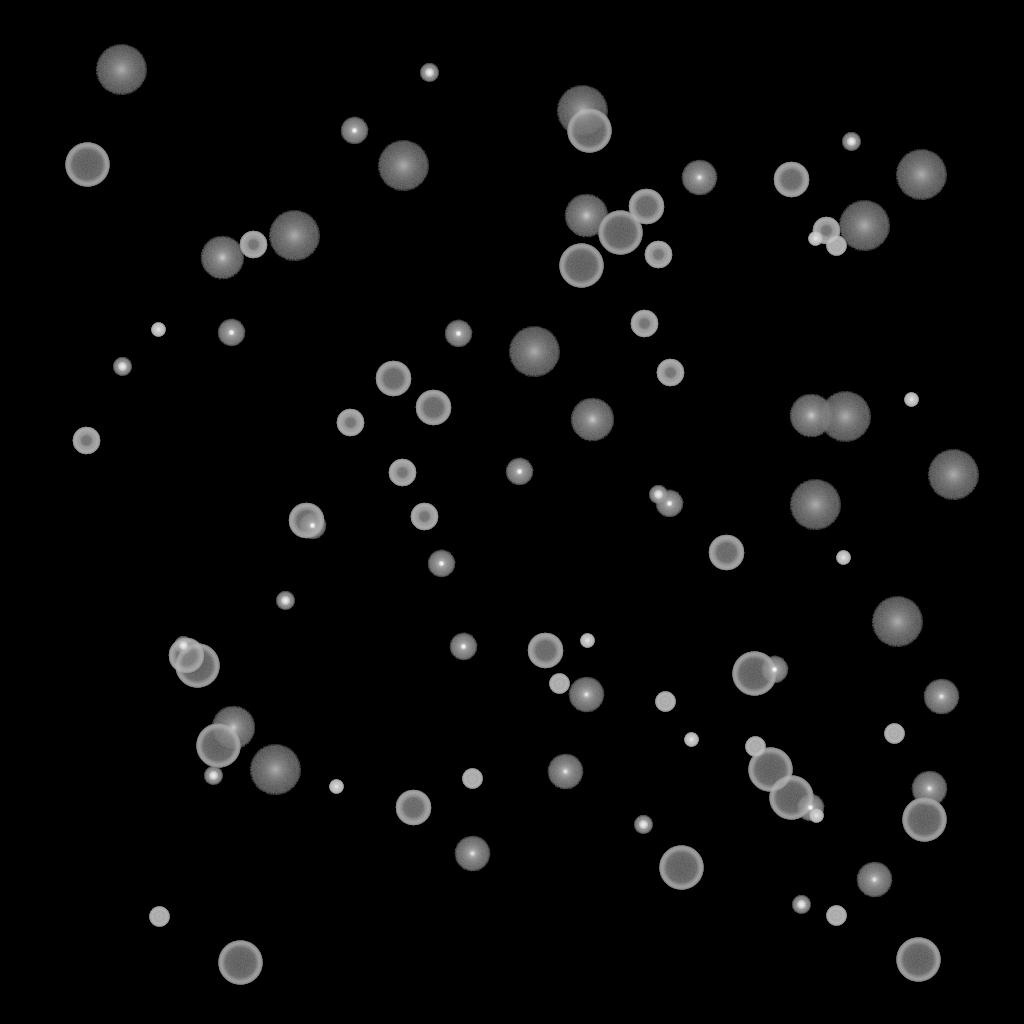depth:-10: (340, 117, 368, 145), (655, 490, 683, 518), (760, 656, 788, 684), (427, 550, 455, 578), (444, 320, 472, 348), (449, 633, 477, 661), (217, 319, 245, 347), (796, 794, 824, 822), (298, 512, 326, 540), (505, 458, 533, 486)
depth:-20: (634, 816, 652, 834), (174, 637, 192, 655), (204, 767, 222, 785), (420, 64, 438, 82), (842, 133, 860, 151), (649, 486, 667, 504), (113, 358, 131, 376), (792, 896, 810, 914), (276, 592, 294, 610)
depth:-30: (808, 232, 822, 246), (836, 551, 850, 565), (151, 323, 165, 337), (809, 809, 823, 823), (684, 733, 698, 747), (580, 634, 594, 648), (329, 780, 343, 794), (904, 393, 918, 407)
depth:-40: (745, 737, 765, 757), (826, 906, 846, 926), (462, 769, 482, 789), (149, 907, 169, 927), (655, 692, 675, 712), (826, 236, 846, 256), (549, 674, 569, 694), (884, 724, 904, 744)
depth:-50: (336, 409, 364, 437), (388, 459, 416, 487), (72, 427, 100, 455), (644, 241, 672, 269), (239, 231, 267, 259), (812, 217, 840, 245), (656, 359, 684, 387), (630, 310, 658, 338), (410, 503, 438, 531)
depth:-60: (708, 535, 744, 571), (628, 189, 664, 225), (773, 162, 809, 198), (527, 633, 563, 669), (415, 390, 451, 426), (288, 503, 324, 539), (395, 790, 431, 826), (375, 361, 411, 397), (168, 638, 204, 674)
depth:-70: (559, 244, 603, 288), (769, 776, 813, 820), (196, 724, 240, 768), (748, 748, 792, 792), (567, 109, 611, 153), (732, 652, 776, 696), (65, 143, 109, 187), (218, 941, 262, 985), (896, 938, 940, 982), (659, 846, 703, 890), (175, 644, 219, 688), (902, 798, 946, 842), (598, 211, 642, 255)
depth:0: (454, 836, 490, 872), (923, 679, 959, 715), (547, 754, 583, 790), (911, 771, 947, 807), (568, 677, 604, 713), (856, 862, 892, 898), (681, 160, 717, 196)
depth:10: (570, 398, 614, 442), (200, 236, 244, 280), (211, 706, 255, 750), (564, 194, 608, 238), (789, 394, 833, 438)
depth:20: (249, 745, 301, 795), (895, 150, 947, 200), (556, 86, 608, 136), (789, 480, 841, 530), (927, 450, 979, 500), (377, 141, 429, 191), (871, 597, 923, 647), (838, 201, 890, 251), (508, 327, 560, 377), (819, 392, 871, 442), (268, 211, 320, 261), (95, 45, 147, 95)
